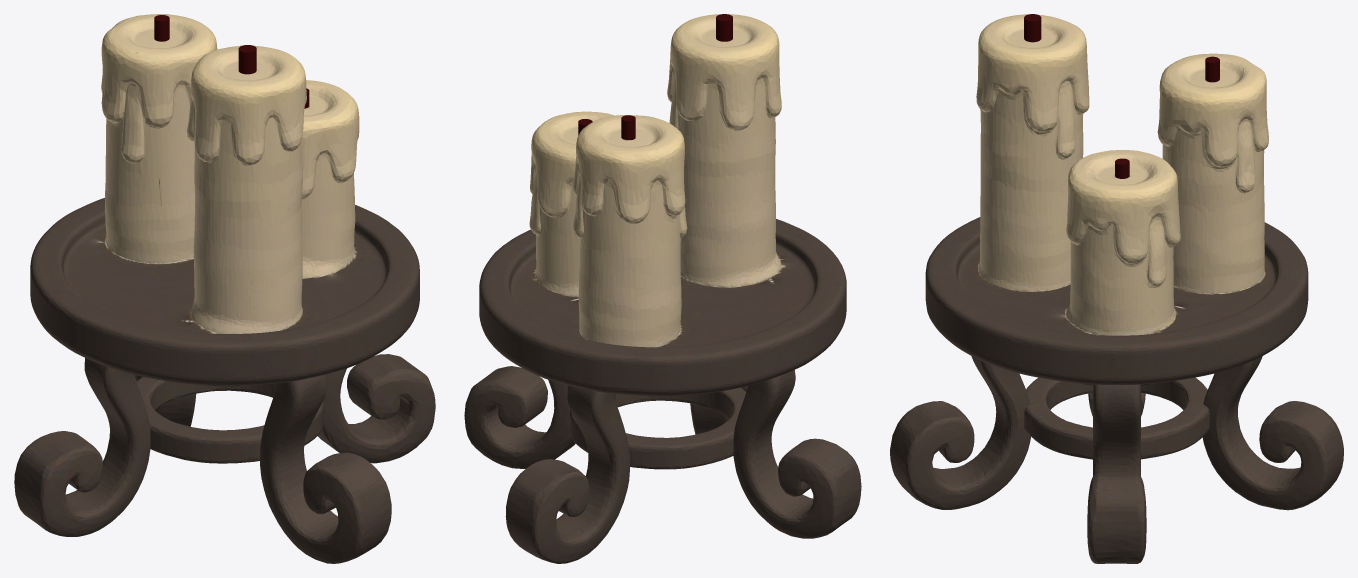
File: candle_12.glb
The picture shows the model from 3 angles, left to right: view 1: azimuth 30°, elevation 25°; view 2: azimuth 150°, elevation 25°; view 3: azimuth 270°, elevation 25°; orthographic projection. The views are drawn at different scales.
Visible parts, largest first — view 1: tripo_node_df4a8cb0-006f-4e60-b871-df449eb416d3, Cylinder.002; view 2: tripo_node_df4a8cb0-006f-4e60-b871-df449eb416d3; view 3: tripo_node_df4a8cb0-006f-4e60-b871-df449eb416d3.
Boxes of the visible parts, x1=… form: tripo_node_df4a8cb0-006f-4e60-b871-df449eb416d3: x1=14, y1=14, x2=435, y2=563; Cylinder.002: x1=238, y1=45, x2=256, y2=74; tripo_node_df4a8cb0-006f-4e60-b871-df449eb416d3: x1=464, y1=14, x2=861, y2=563; tripo_node_df4a8cb0-006f-4e60-b871-df449eb416d3: x1=890, y1=14, x2=1343, y2=563.
Bounding box in the file's own units: 0.7287 × 0.8543 × 0.7559.
4 materials, 1 textured.
